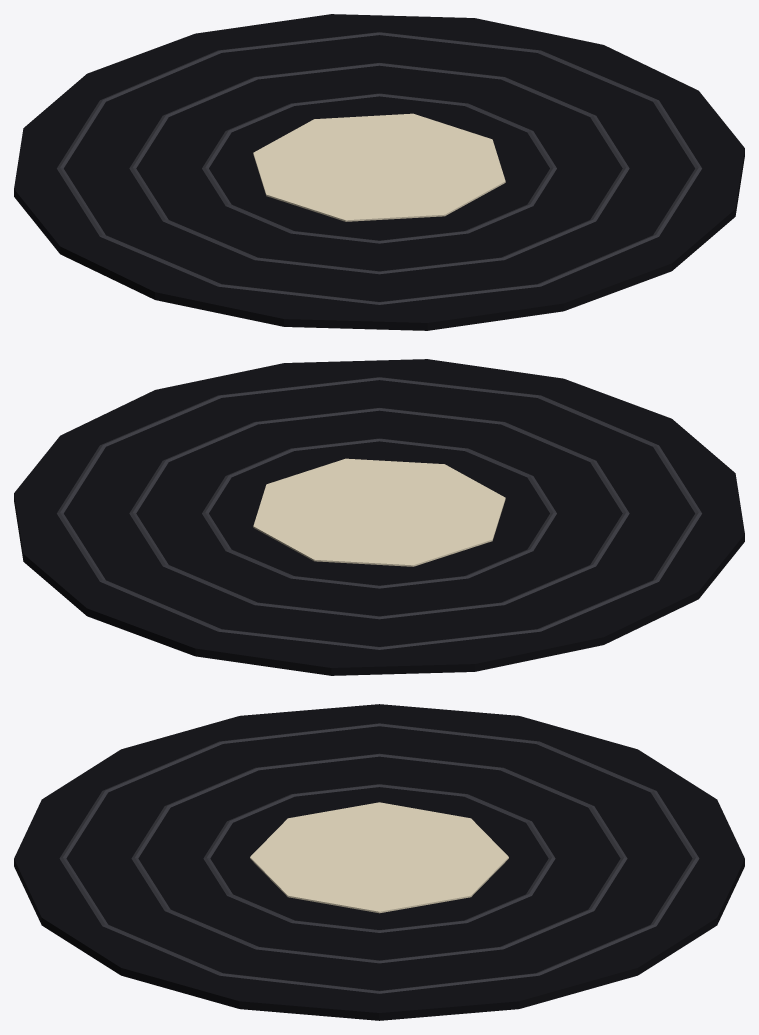
File: Prop_YTM_Record_Whole_LOD1.glb
3 renders of one model, top to bottom at view 1: azimuth 30°, elevation 25°; view 2: azimuth 150°, elevation 25°; view 3: azimuth 270°, elevation 25°, orthographic.
Visible parts, largest first — view 1: Prop_YTM_Record_Whole; view 2: Prop_YTM_Record_Whole; view 3: Prop_YTM_Record_Whole.
Boxes of the visible parts, x1,y1,x2,y2 form: Prop_YTM_Record_Whole: (14,14,744,330); Prop_YTM_Record_Whole: (14,359,744,675); Prop_YTM_Record_Whole: (14,704,744,1020).
Size of the model in its own units: 0.254 by 0.0036 by 0.254.
